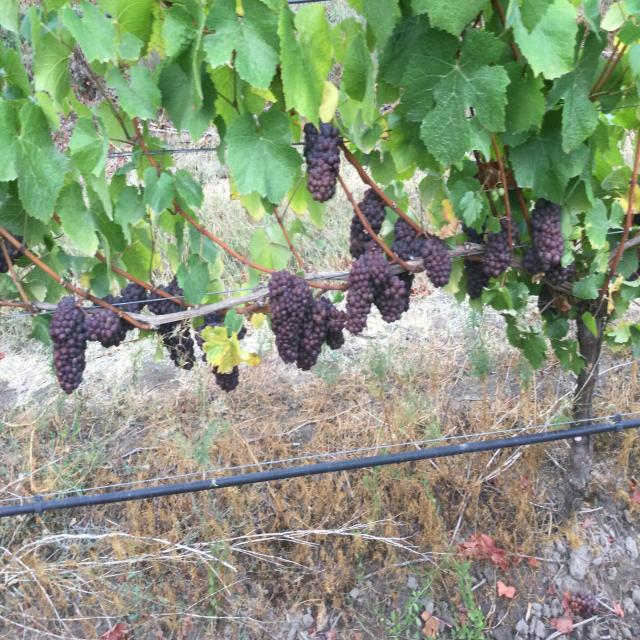grapes: (345, 242, 408, 335), (522, 198, 574, 285), (269, 270, 312, 363), (49, 297, 86, 393), (298, 297, 345, 370), (304, 122, 342, 203), (84, 308, 134, 348), (159, 322, 195, 370), (422, 235, 451, 287), (391, 217, 426, 260), (484, 228, 511, 278), (358, 188, 386, 235), (104, 283, 146, 313), (464, 260, 489, 298), (350, 213, 371, 258), (149, 293, 182, 315), (162, 277, 182, 297)
